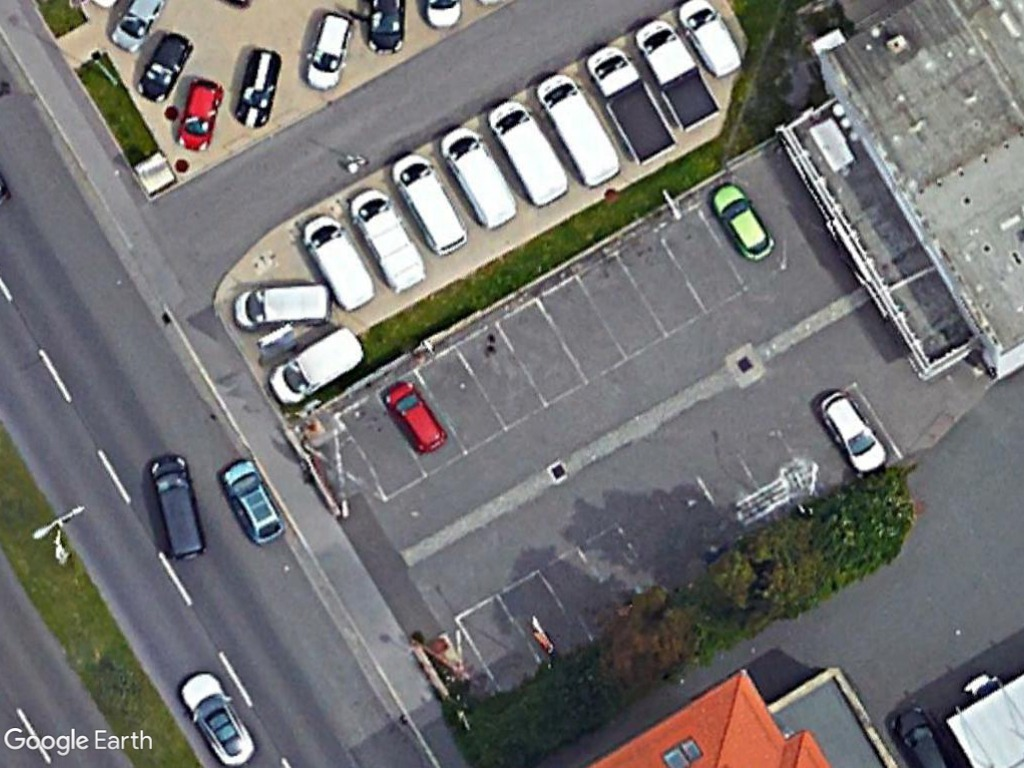car: (265, 321, 371, 413), (172, 665, 260, 768), (810, 385, 889, 478), (219, 455, 289, 547), (704, 182, 780, 265), (224, 280, 343, 331), (379, 376, 448, 461), (671, 0, 749, 73), (229, 40, 287, 132), (300, 4, 357, 96), (132, 27, 194, 108), (170, 71, 226, 154)
truck: (582, 37, 680, 169), (629, 11, 726, 135)
van: (531, 68, 625, 192), (482, 97, 575, 214), (429, 125, 524, 235), (343, 182, 429, 294), (382, 150, 470, 258), (297, 213, 382, 313), (141, 446, 210, 567)
